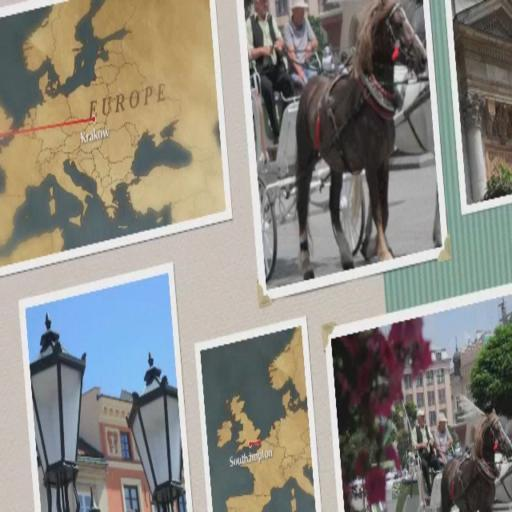horse: (293, 0, 428, 280), (440, 408, 511, 511)
